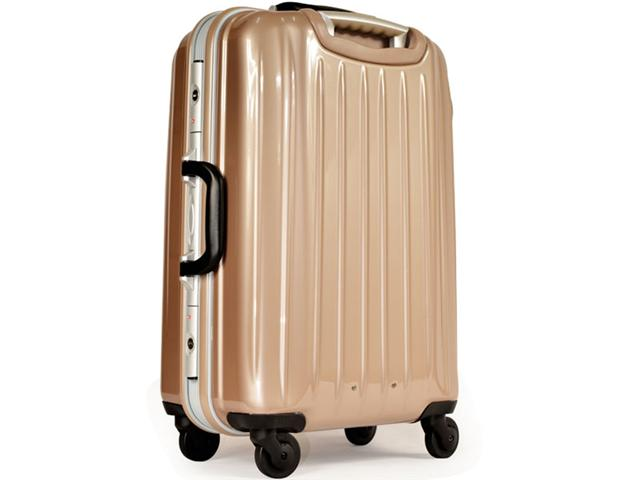suitcase: (159, 1, 458, 479)
